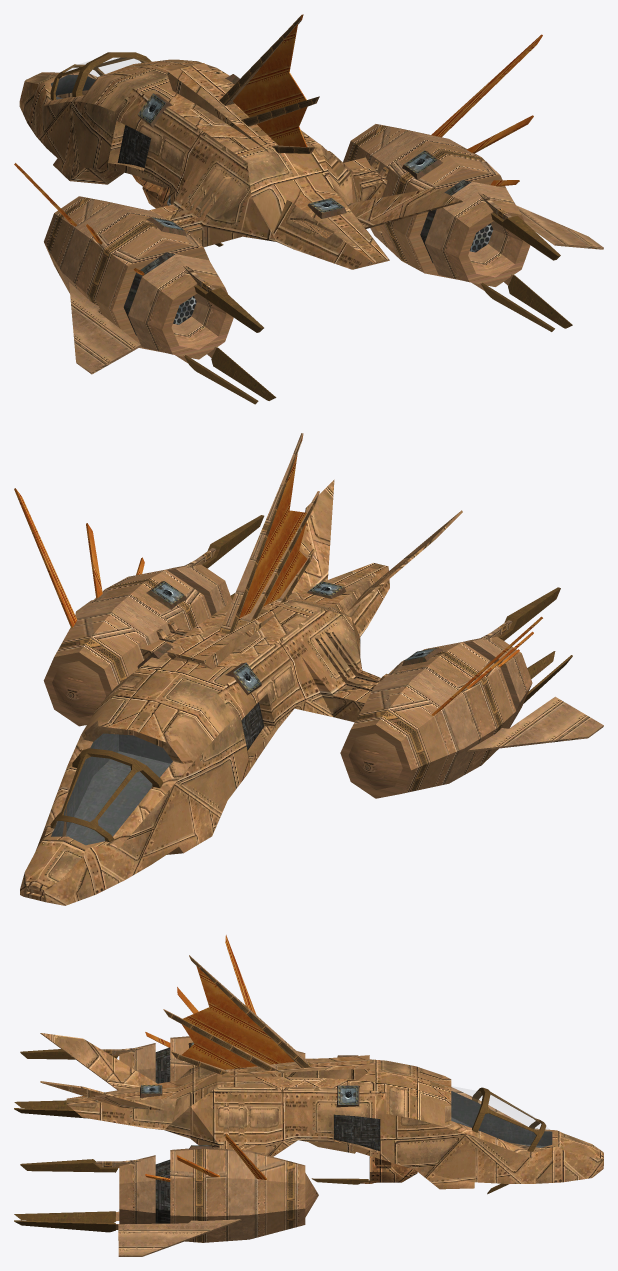
Rendered from CHS-23 Shilone I.fbx.
The picture shows the model from 3 angles, top to bottom: view 1: azimuth 30°, elevation 25°; view 2: azimuth 150°, elevation 25°; view 3: azimuth 270°, elevation 25°; orthographic projection. The views are drawn at different scales.
Visible parts, largest first — view 1: Sh_hull1, Sh_hull3, Sh_metal2, Sh_tail, Sh_wings, Sh_mounts, Sh_engine, Sh_panels, Sh_grill, Sh_hull2; view 2: Sh_hull1, Sh_hull3, Sh_metal, Sh_tail, Sh_metal2, Sh_wings, Sh_mounts, Sh_panels; view 3: Sh_hull1, Sh_hull3, Sh_tail, Sh_metal2, Sh_wings, Sh_metal, Sh_engine, Sh_panels, Sh_mounts, Sh_hull2, Sh_glass.
Boxes of the visible parts, box(x1,y1,x2,y2) form: Sh_hull1: box(19, 59, 462, 269); Sh_hull3: box(44, 15, 530, 362); Sh_metal2: box(50, 52, 572, 404); Sh_tail: box(14, 14, 542, 275); Sh_wings: box(69, 205, 603, 374); Sh_mounts: box(137, 74, 442, 235); Sh_engine: box(123, 180, 471, 335); Sh_panels: box(117, 125, 151, 167); Sh_grill: box(167, 195, 493, 324); Sh_hull2: box(132, 175, 169, 208); Sh_hull1: box(20, 479, 462, 905); Sh_hull3: box(43, 433, 532, 798); Sh_metal: box(51, 733, 176, 845); Sh_tail: box(14, 435, 542, 715); Sh_metal2: box(50, 515, 572, 842); Sh_wings: box(75, 600, 603, 751); Sh_mounts: box(137, 581, 442, 695); Sh_panels: box(177, 657, 264, 750); Sh_hull1: box(40, 1033, 603, 1189); Sh_hull3: box(95, 955, 318, 1242); Sh_tail: box(145, 935, 294, 1181); Sh_metal2: box(14, 1049, 546, 1232); Sh_wings: box(118, 1219, 241, 1256); Sh_metal: box(451, 1091, 552, 1147); Sh_engine: box(155, 1047, 170, 1223); Sh_panels: box(334, 1114, 380, 1151); Sh_mounts: box(140, 1042, 359, 1149); Sh_hull2: box(361, 1156, 417, 1183); Sh_glass: box(452, 1087, 550, 1130).
Size of the model in its own units: 194 by 108 by 242.
12 materials, 11 textured.
